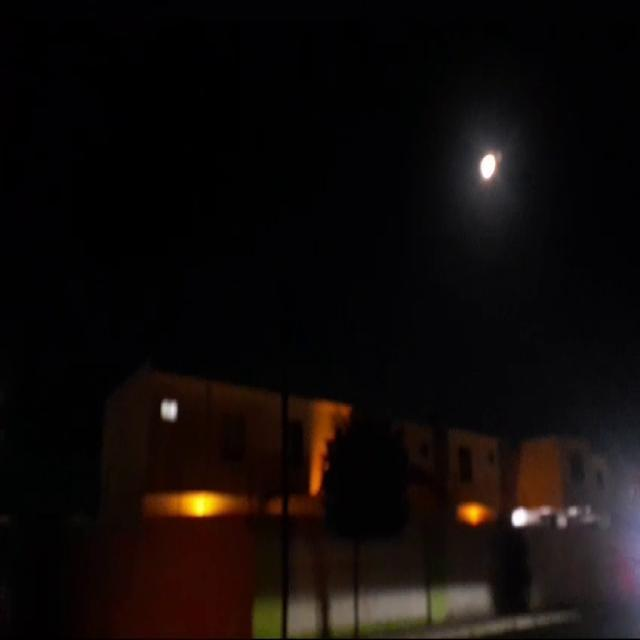moon: (478, 138, 498, 172)
